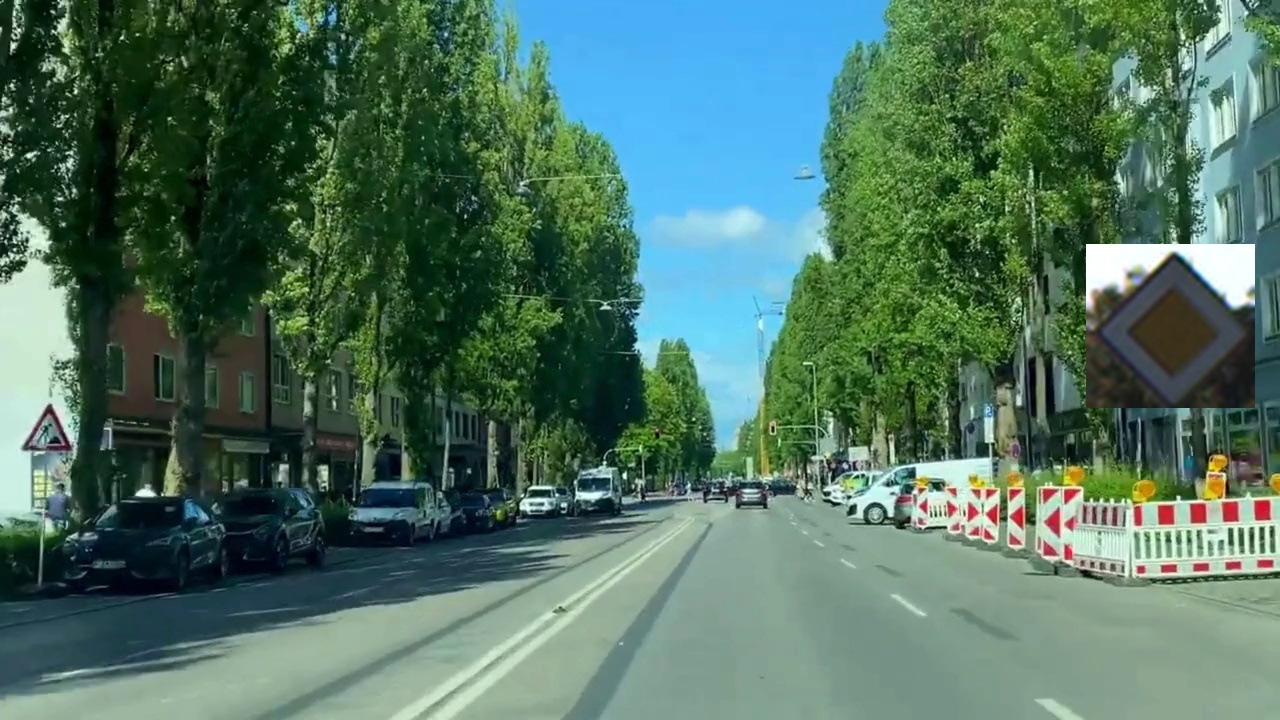Priority road: (1086, 244, 1255, 408)
